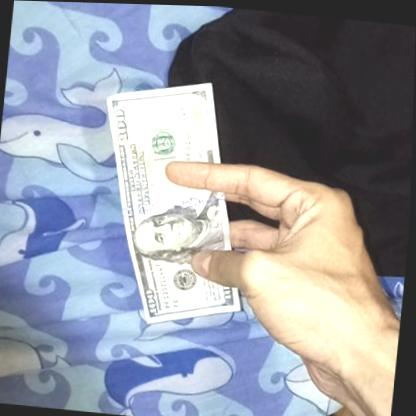one_hundred-front: (85, 69, 262, 333)
twenty-front: (86, 68, 262, 332)
